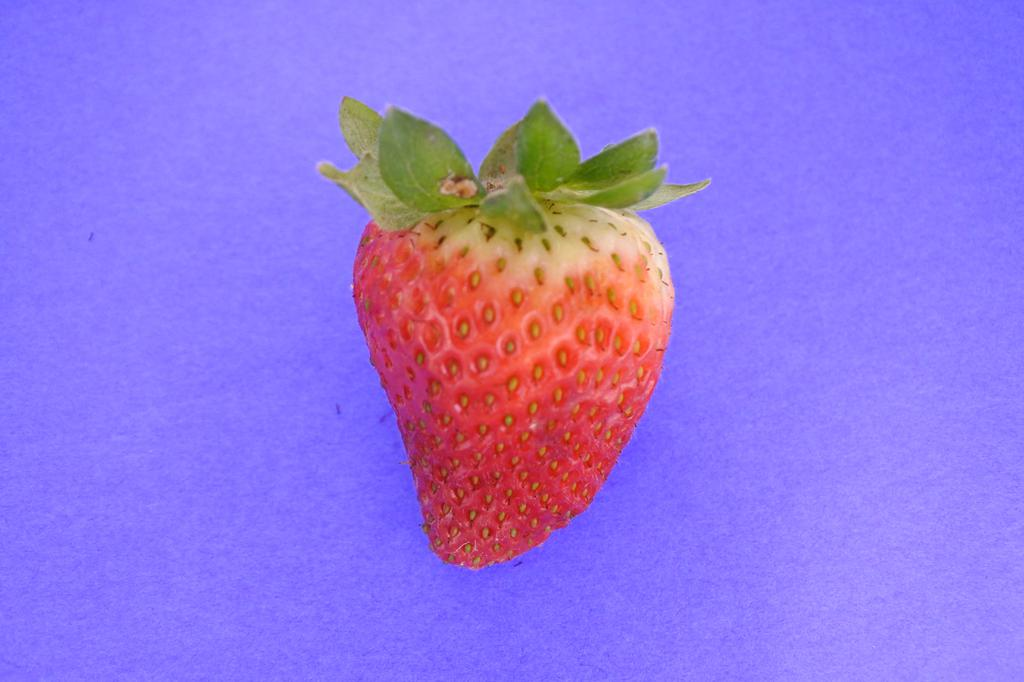red strawberry: (314, 96, 713, 571)
